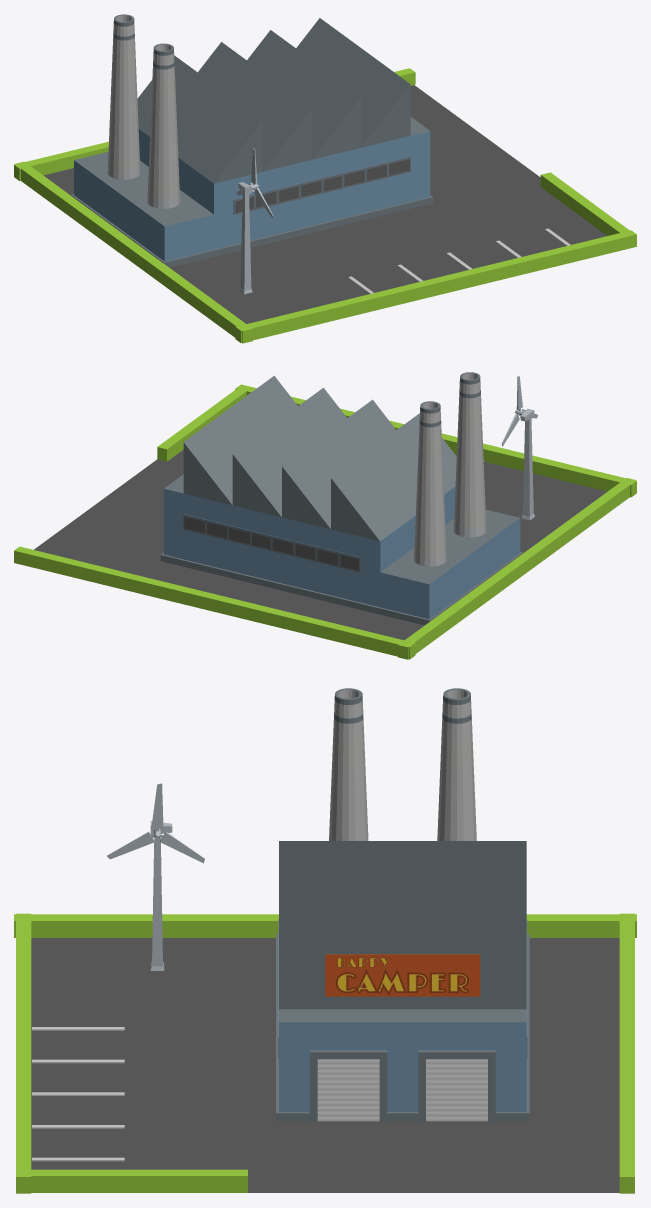
Rendered from factory.gltf.
3 renders of one model, top to bottom at view 1: azimuth 30°, elevation 25°; view 2: azimuth 150°, elevation 25°; view 3: azimuth 270°, elevation 25°, orthographic. The views are drawn at different scales.
Visible parts, largest first — view 1: Building_Factory_Cube.005, Road Tile_Plane.003, Natures_Grass Fence_Cube.2536 (×4), Props_Windmill_Post; view 2: Building_Factory_Cube.005, Road Tile_Plane.003, Natures_Grass Fence_Cube.2536 (×4), Props_Windmill_Post; view 3: Road Tile_Plane.003, Building_Factory_Cube.005, Natures_Grass Fence_Cube.2536 (×4), Props_Windmill_Post, Wings_Cylinder.127.
Boxes of the visible parts, x1,y1,x2,y2 form: Building_Factory_Cube.005: (70,14,433,267); Road Tile_Plane.003: (43,85,606,323); Natures_Grass Fence_Cube.2536 (×4): (14,68,636,343); Props_Windmill_Post: (238,182,252,294); Building_Factory_Cube.005: (160,372,523,625); Road Tile_Plane.003: (34,450,606,640); Natures_Grass Fence_Cube.2536 (×4): (14,384,636,659); Props_Windmill_Post: (520,408,534,520); Road Tile_Plane.003: (31,938,619,1192); Building_Factory_Cube.005: (276,688,529,1122); Natures_Grass Fence_Cube.2536 (×4): (14,913,636,1193); Props_Windmill_Post: (150,821,172,970); Wings_Cylinder.127: (107,783,204,863).
Bounding box in the file's own units: 40.25 × 19.07 × 40.25.
Materials: 6 (6 with a texture image).
